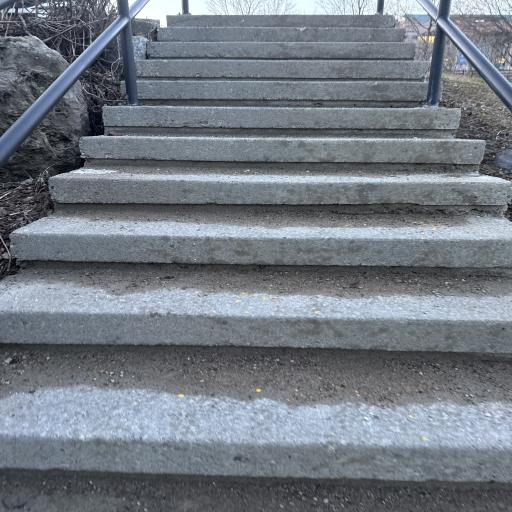Stairs: (0, 15, 512, 482)
